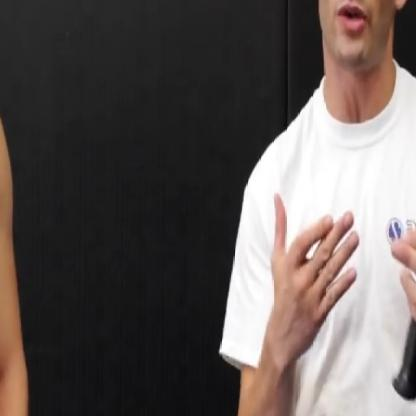knife: (385, 95, 415, 415)
